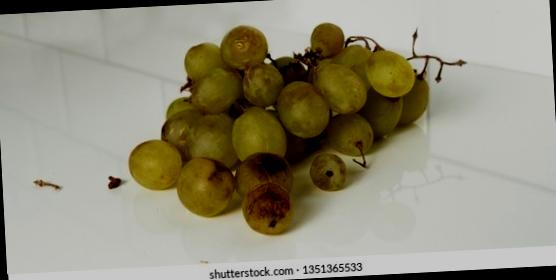Grape Rotten: (121, 13, 461, 242)
